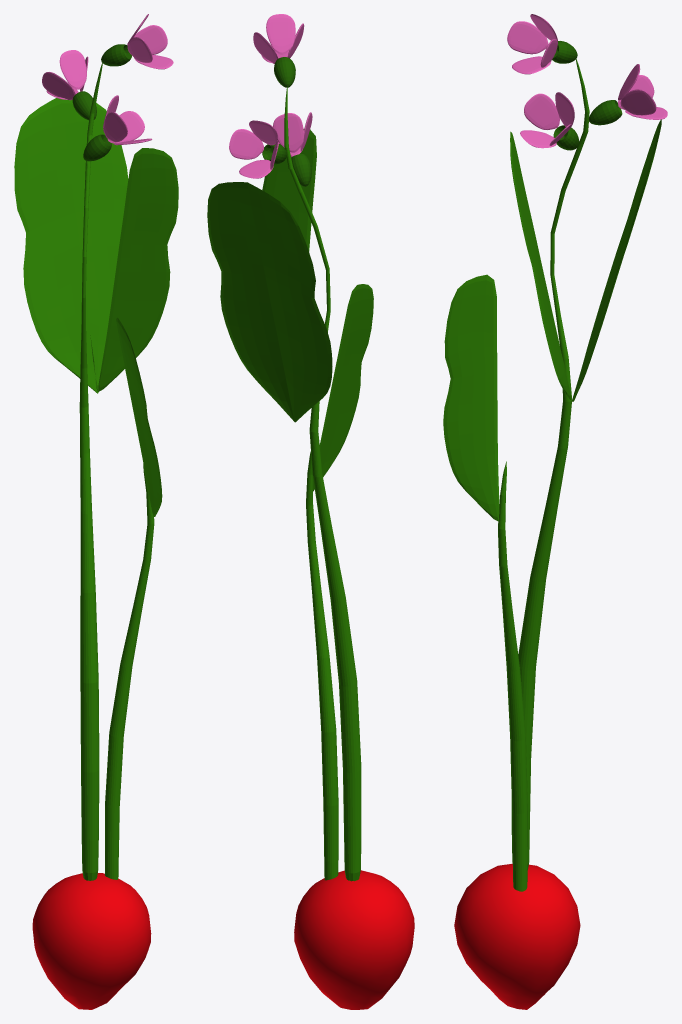
File: Radish Seed FloweringSDM5.1.1.fbx
3 views of the same model, side by side, from view 1: azimuth 30°, elevation 25°; view 2: azimuth 150°, elevation 25°; view 3: azimuth 270°, elevation 25° (orthographic). The views are drawn at different scales.
Parts seen in each view (by area): view 1: Cylinder.006; view 2: Cylinder.006; view 3: Cylinder.006.
Boxes of the visible parts, x1,y1,x2,y2 form: Cylinder.006: (14, 14, 178, 1009); Cylinder.006: (207, 14, 414, 1009); Cylinder.006: (443, 14, 667, 1009).
Size of the model in its own units: 253 by 1659 by 329.
